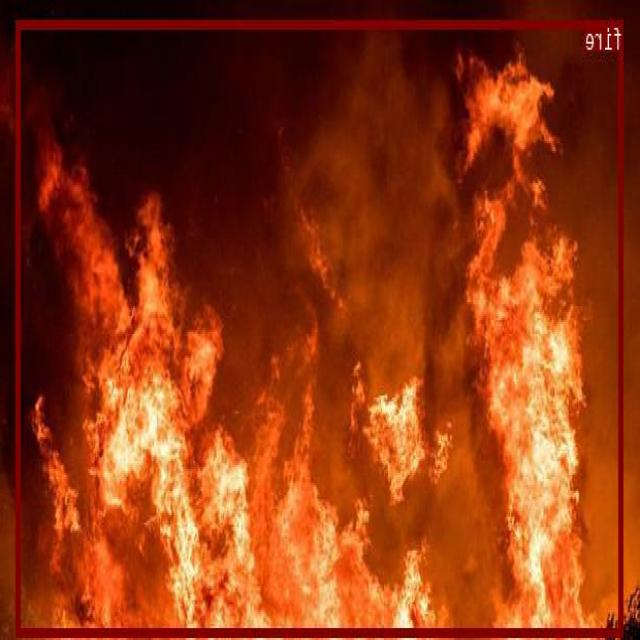fire: (18, 19, 624, 634)
